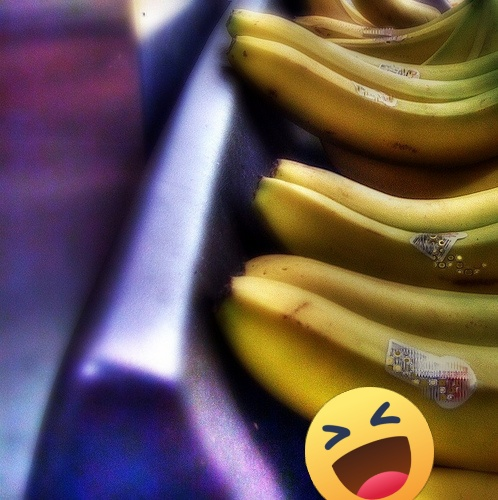haha: (305, 387, 434, 500)
